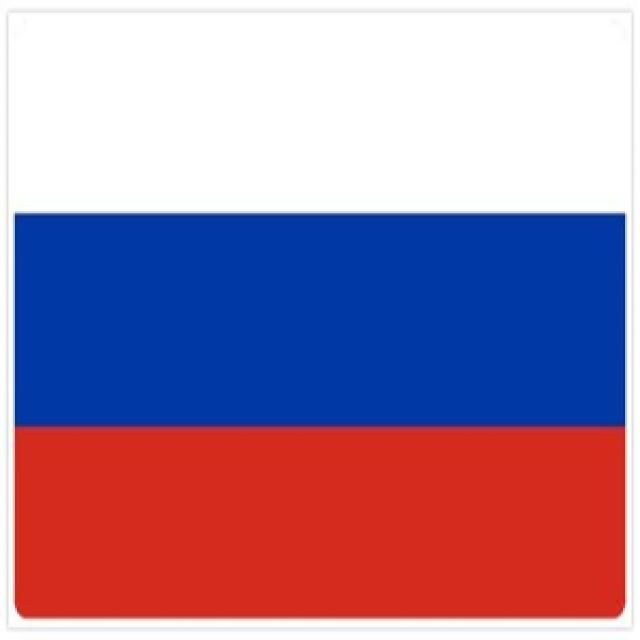russia: (6, 1, 640, 640)
